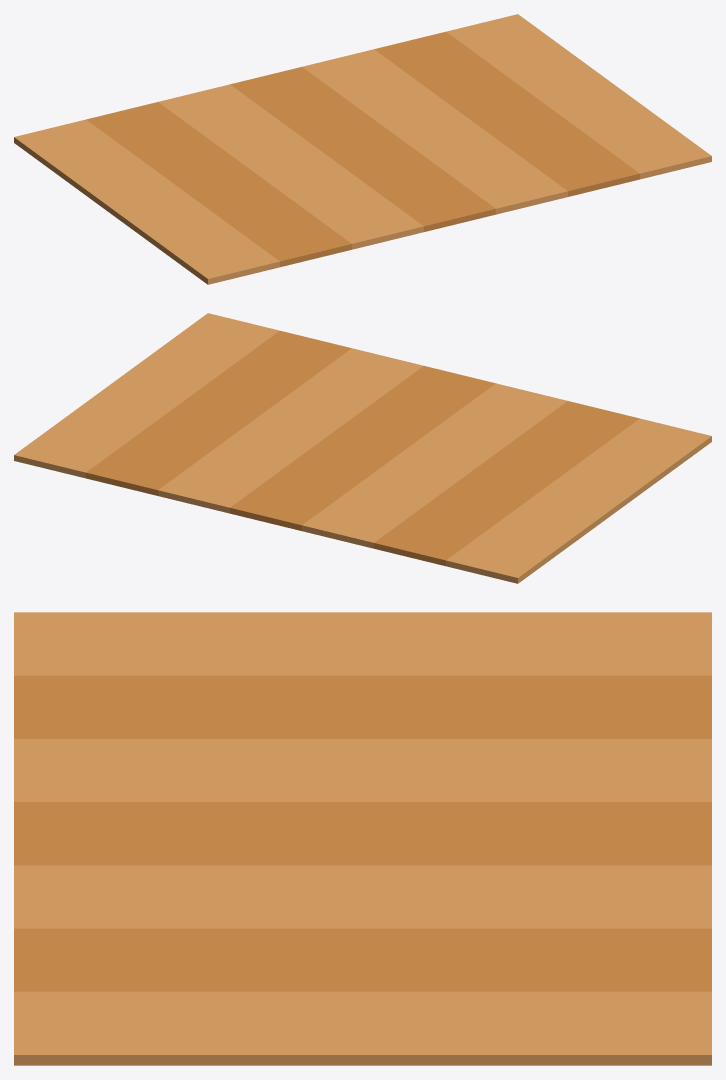
File: Carpet4_C3.fbx
The picture shows the model from 3 angles, top to bottom: view 1: azimuth 30°, elevation 25°; view 2: azimuth 150°, elevation 25°; view 3: azimuth 270°, elevation 25°; orthographic projection. The views are drawn at different scales.
Visible parts, largest first — view 1: Carpet4_C3; view 2: Carpet4_C3; view 3: Carpet4_C3.
Boxes of the visible parts, box(x1,y1,x2,y2) form: Carpet4_C3: box(14, 14, 711, 284); Carpet4_C3: box(14, 313, 711, 583); Carpet4_C3: box(14, 612, 711, 1065).
Size of the model in its own units: 90 by 1 by 60.
